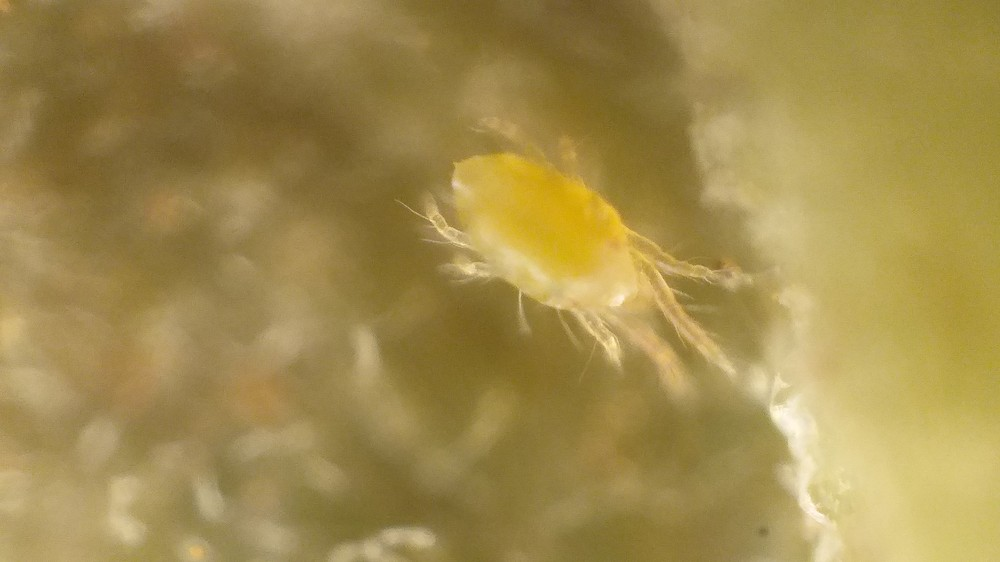Aracnido Rojo: (393, 103, 796, 436)
